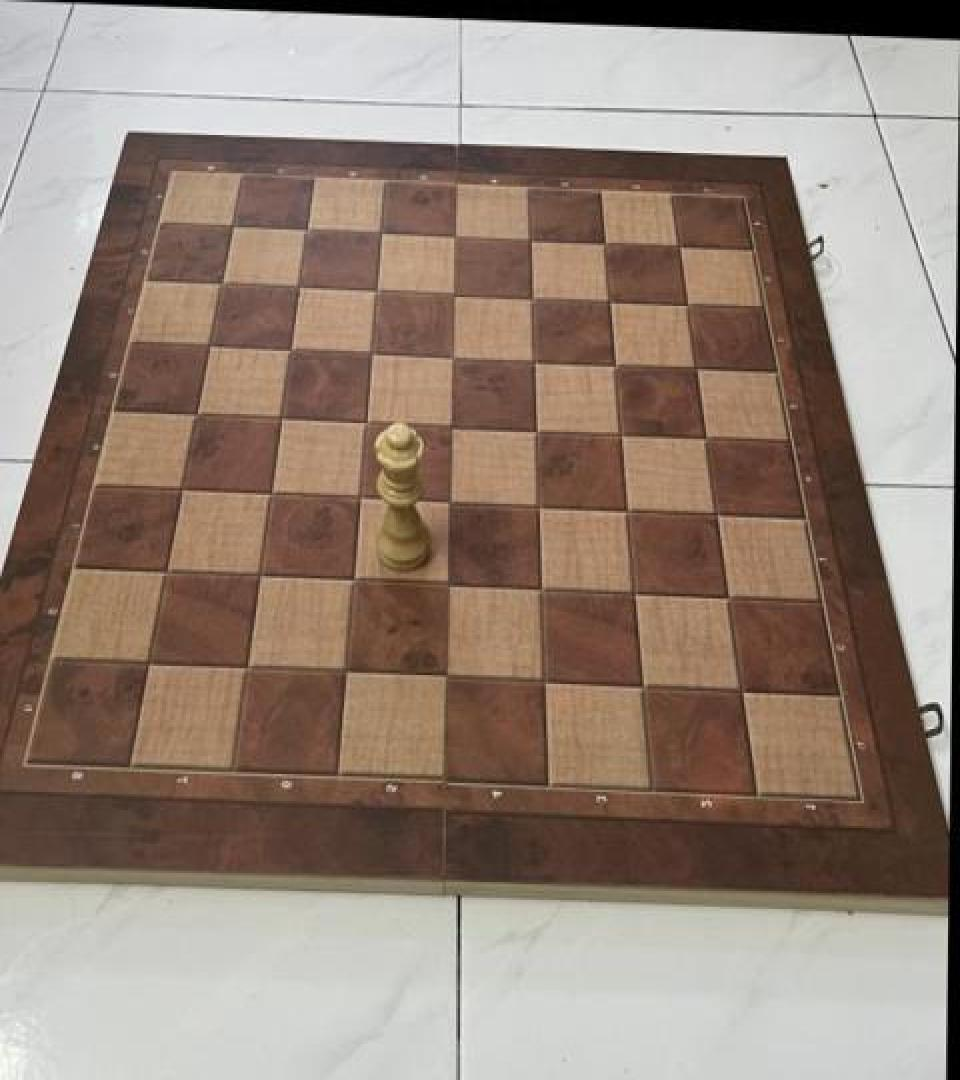xcorner: (358, 273, 392, 312), (353, 335, 387, 374), (263, 400, 297, 439), (335, 562, 369, 601), (214, 210, 248, 248), (288, 213, 322, 251), (362, 216, 396, 254), (437, 218, 471, 256), (511, 222, 545, 260), (586, 225, 620, 263), (661, 228, 695, 266), (203, 266, 237, 304), (280, 270, 314, 308), (435, 277, 469, 315), (513, 280, 547, 318), (591, 284, 625, 322), (669, 287, 703, 325), (191, 328, 225, 366), (272, 332, 306, 370), (434, 339, 468, 377), (515, 343, 549, 381), (596, 346, 630, 384), (678, 350, 712, 388), (178, 396, 212, 434), (347, 404, 381, 442), (432, 408, 466, 446), (517, 412, 551, 450), (602, 415, 636, 453), (688, 420, 722, 458), (164, 470, 198, 508), (252, 475, 286, 513), (341, 480, 375, 518), (430, 484, 464, 522), (519, 487, 553, 525), (609, 492, 643, 530), (698, 496, 732, 534), (148, 554, 182, 592), (241, 558, 275, 596), (428, 567, 462, 605), (522, 570, 556, 608), (616, 575, 650, 613), (710, 580, 744, 618), (130, 645, 164, 683), (229, 649, 263, 687), (327, 654, 361, 692), (426, 660, 460, 698), (525, 664, 559, 702), (624, 668, 658, 706), (723, 673, 757, 711)
